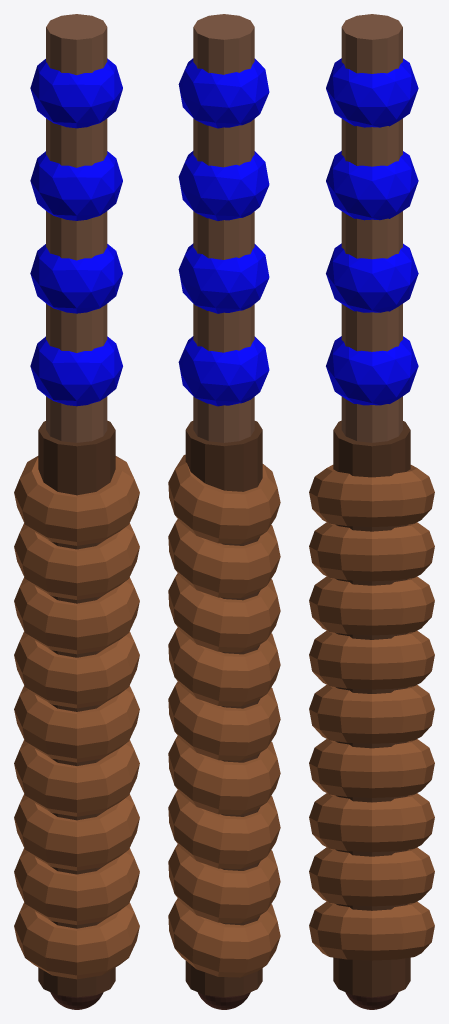
File: Wand 433.glb
3 renders of one model, left to right at view 1: azimuth 90°, elevation 25°; view 2: azimuth 150°, elevation 25°; view 3: azimuth 270°, elevation 25°, orthographic.
Parts seen in each view (by area): view 1: GeneratedWand; view 2: GeneratedWand; view 3: GeneratedWand.
Boxes of the visible parts, bbox=[...] form: GeneratedWand: bbox=[14, 14, 139, 1009]; GeneratedWand: bbox=[168, 14, 280, 1009]; GeneratedWand: bbox=[309, 14, 434, 1009].
Bounding box in the file's own units: 0.0497 × 0.4993 × 0.0581.
